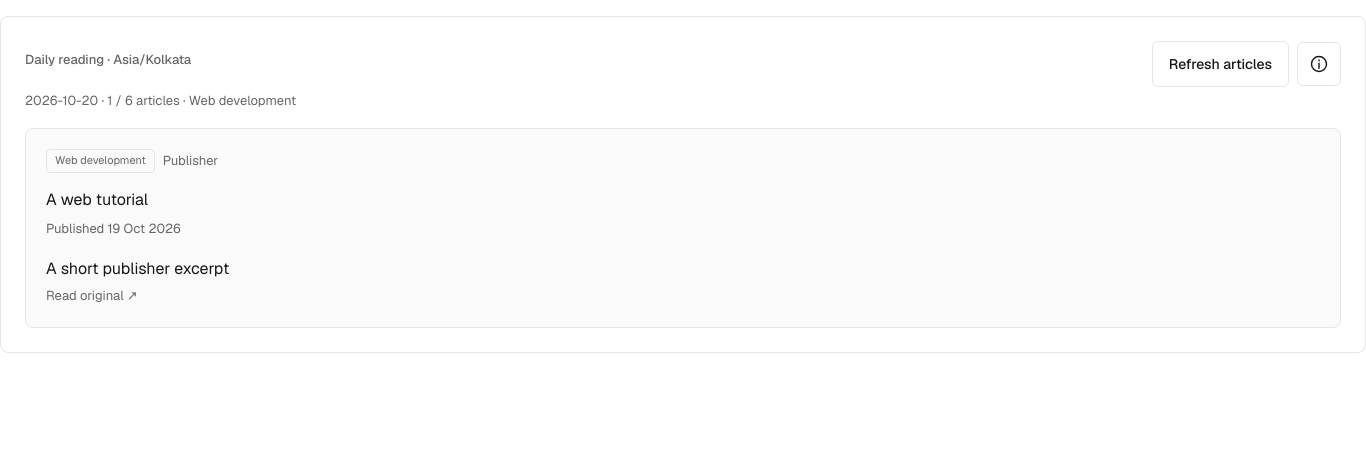
Daily Articles interface › retains saved cards after transient failure but hides them when access is revoked
Click the button "Refresh articles" at x=1220, y=64, box [1152,41,1289,87]
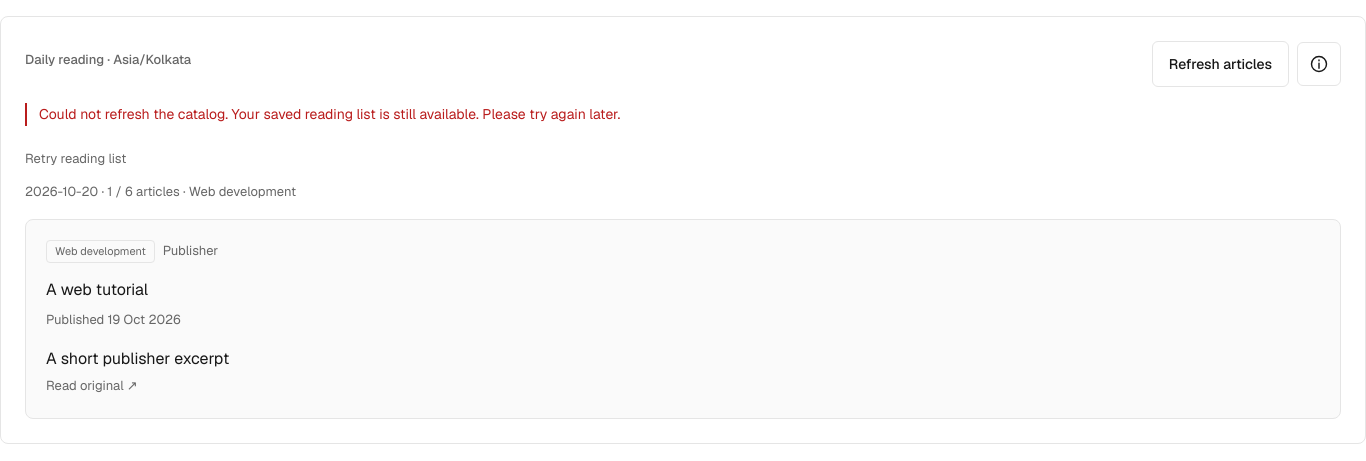
Expected: the text "A web tutorial" is shown, [46,279,148,300]
Click the button "Retry reading list" at x=76, y=160, box [25,142,126,178]
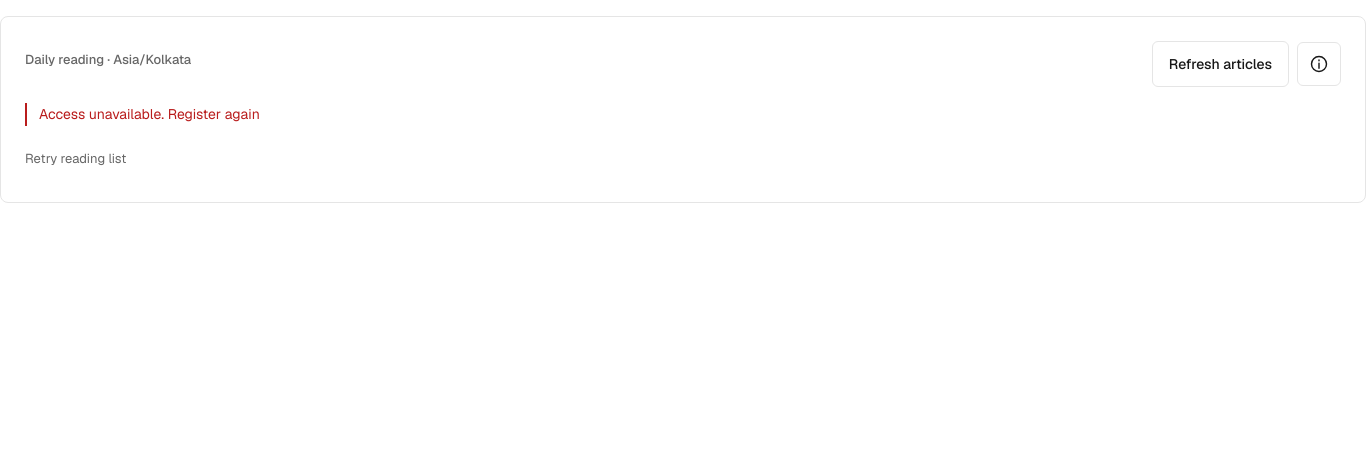
Result: the text "Access unavailable" is shown at [39,105,260,123]
Result: the text "A web tutorial" is gone
